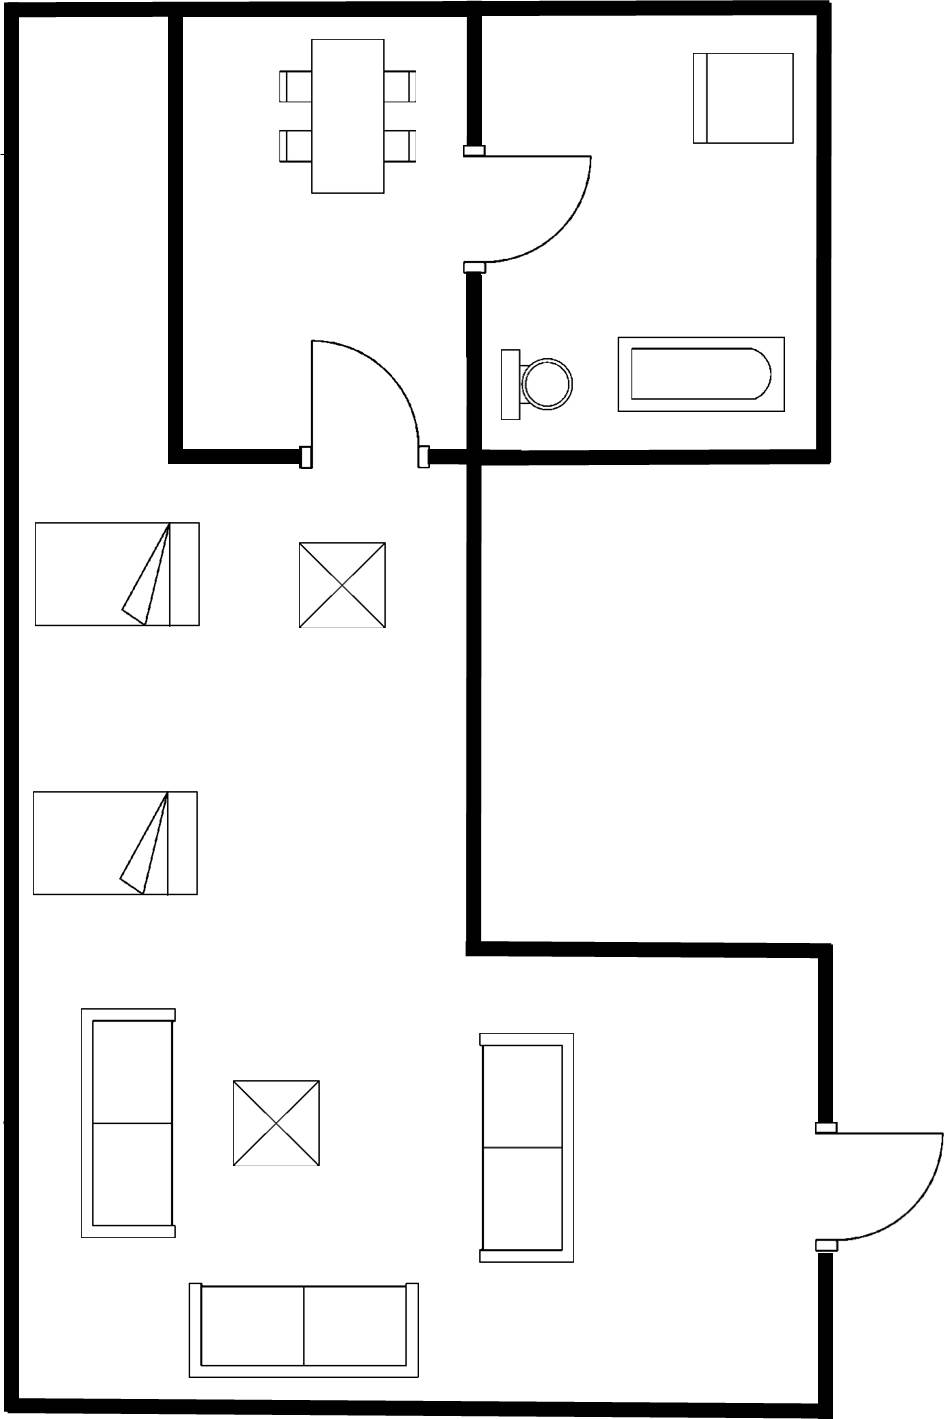bed: (27, 513, 212, 636), (29, 782, 208, 906)
coffee_table: (223, 1073, 331, 1175), (291, 535, 392, 636)
dining_table: (269, 28, 424, 202)
large_sink: (495, 345, 577, 430)
large_sofa: (179, 1274, 430, 1385), (72, 1002, 187, 1243), (473, 1023, 584, 1267)
small_sofa: (683, 43, 801, 153)
tub: (609, 331, 792, 423)
